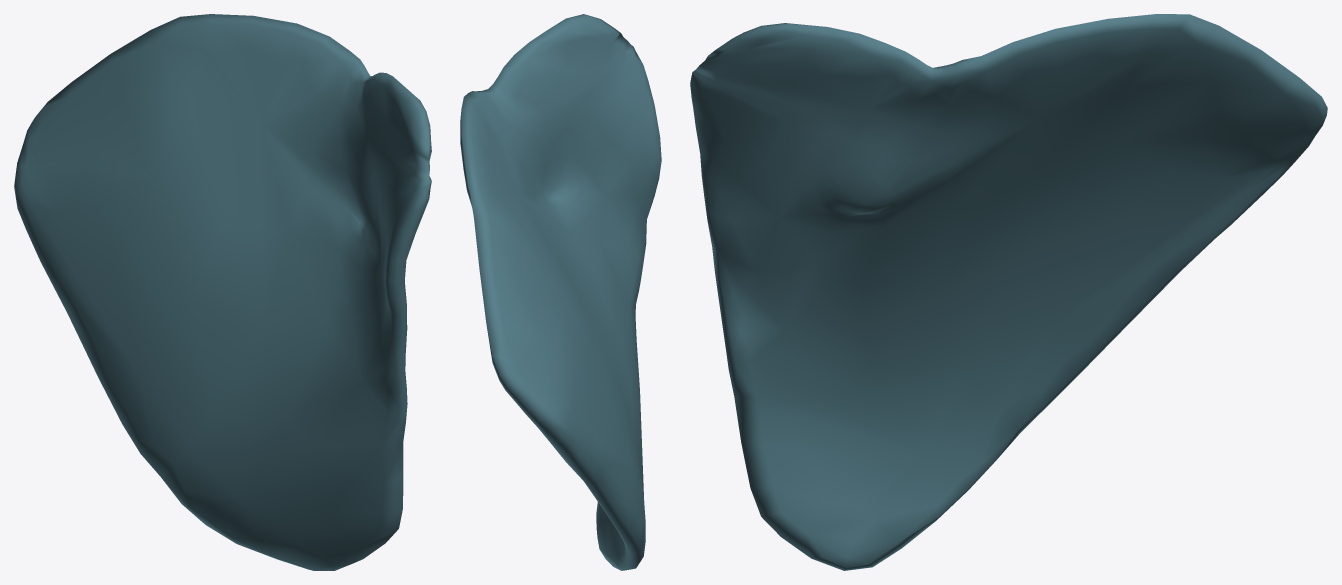
Rendered from Tibialis_anterior_medial_cuneiform_left.glb.
The picture shows the model from 3 angles, left to right: view 1: azimuth 30°, elevation 25°; view 2: azimuth 150°, elevation 25°; view 3: azimuth 270°, elevation 25°; orthographic projection. The views are drawn at different scales.
Parts seen in each view (by area): view 1: Tibialis_anterior_on_medial_cuneiform_bone.l_Generated_Mesh_; view 2: Tibialis_anterior_on_medial_cuneiform_bone.l_Generated_Mesh_; view 3: Tibialis_anterior_on_medial_cuneiform_bone.l_Generated_Mesh_.
Boxes of the visible parts, x1,y1,x2,y2 form: Tibialis_anterior_on_medial_cuneiform_bone.l_Generated_Mesh_: [14, 14, 431, 570]; Tibialis_anterior_on_medial_cuneiform_bone.l_Generated_Mesh_: [460, 14, 661, 570]; Tibialis_anterior_on_medial_cuneiform_bone.l_Generated_Mesh_: [690, 14, 1327, 570].
Size of the model in its own units: 0.00635 by 0.0134 by 0.0132.
